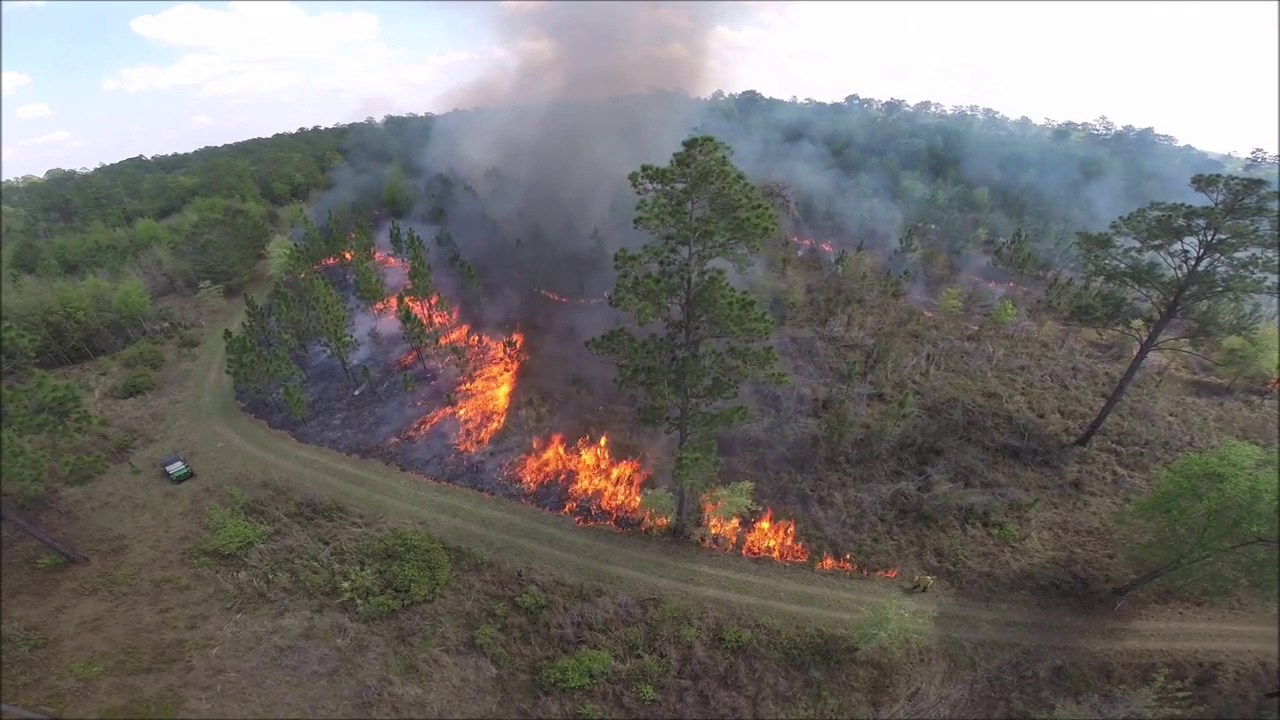forest_fire: (394, 292, 522, 452), (512, 434, 666, 528), (703, 498, 808, 562), (373, 288, 402, 316), (375, 251, 406, 275), (317, 251, 351, 265), (815, 555, 845, 569), (540, 291, 569, 301), (396, 351, 415, 366), (877, 570, 895, 576), (576, 298, 605, 301)
